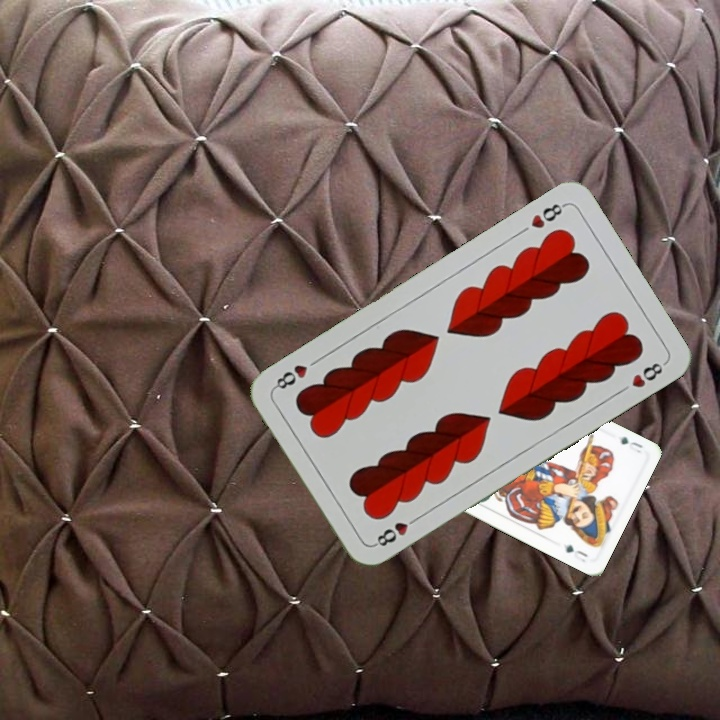GU: (617, 433, 646, 456)
H8: (370, 512, 423, 549), (526, 199, 568, 231)
